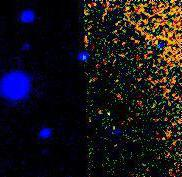star: (96, 98, 126, 128)
